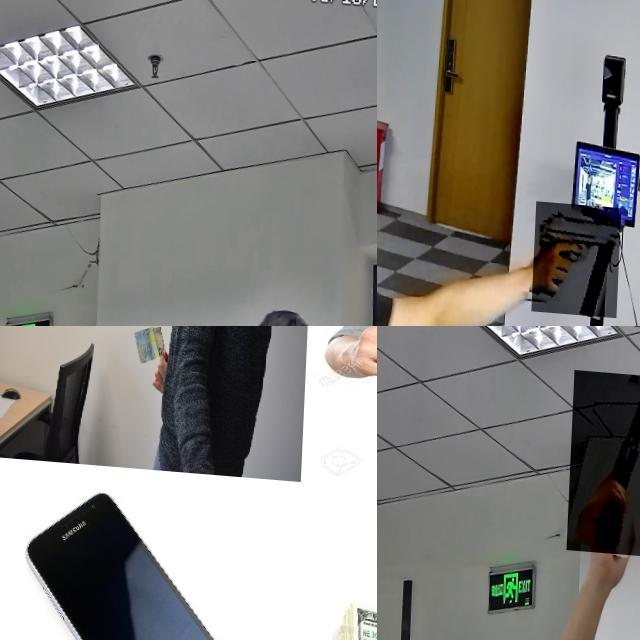gun-knife-thesis - v11 Yolov5 augmented: (569, 366, 640, 552), (536, 192, 624, 308)
